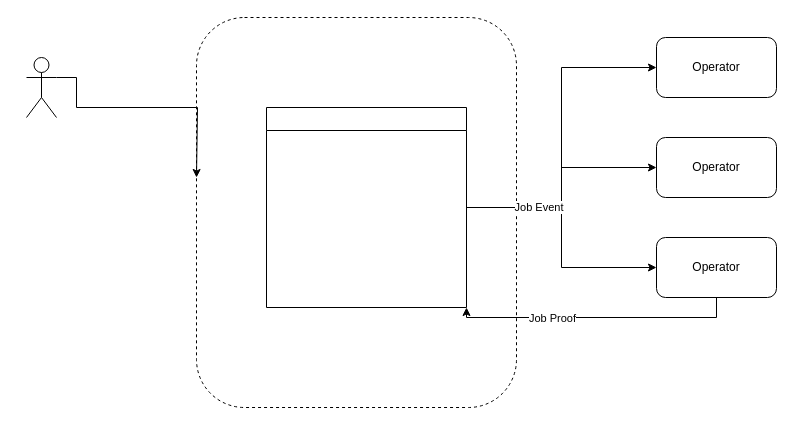
This 794x425 diagram has some shape labels left out. The box of each missing label's shape, as (x1, y1, x2, y2) in pixels:
Restaker: (26, 56, 56, 118)
Service Manager: (266, 106, 466, 308)
